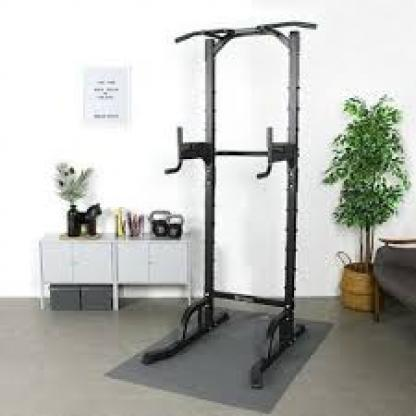chinning dipping: (164, 20, 320, 393)
